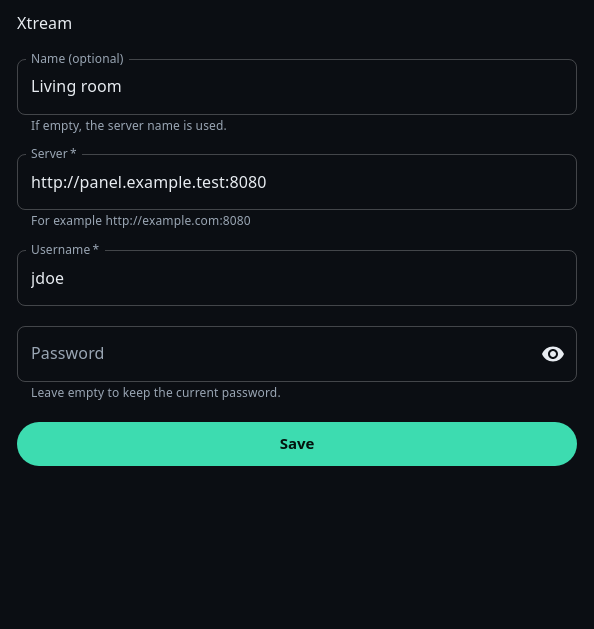
it: SRC-08 AC2 — Xtream credentials are re-tested before applying › a failed test applies nothing and explains why (no "save anyway" when editing)
This screenshot has width=594, height=629.
Type "wrong-password" into the password field labelled "Password" at (270, 354), box x1=17 y1=326 x2=523 y2=382
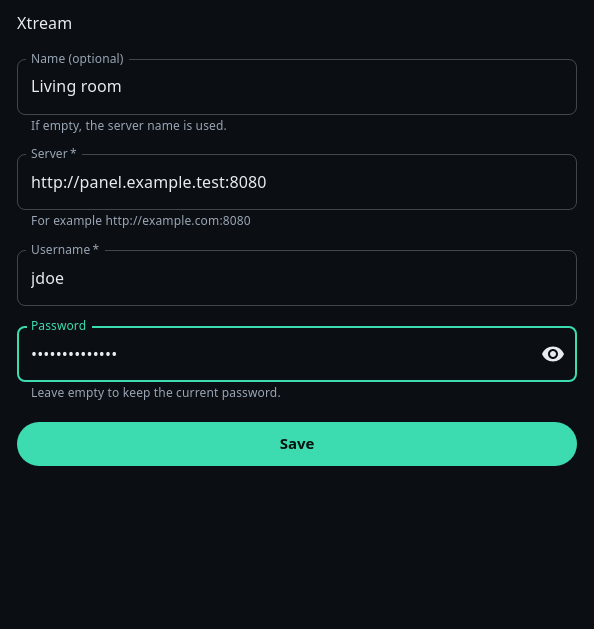
Click the button "Save" at (297, 444), box x1=17 y1=422 x2=577 y2=466
(page scrolled)
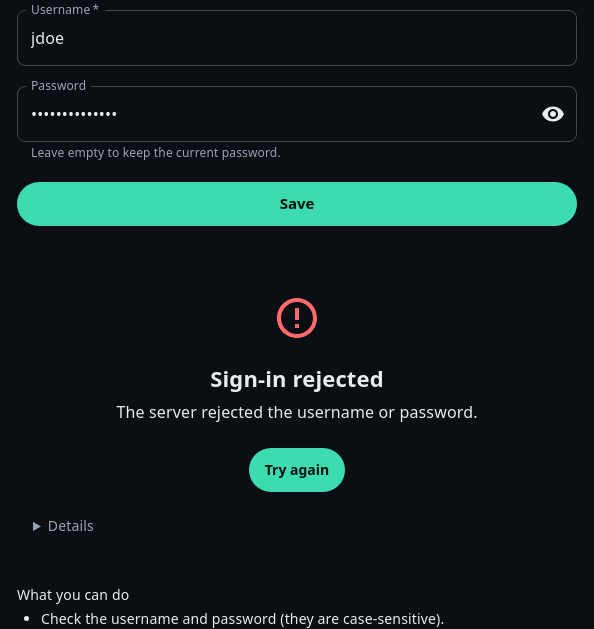
Check: the element with test id "xtream-failure" shows "Sign-in rejected", box x1=210 y1=363 x2=384 y2=393
